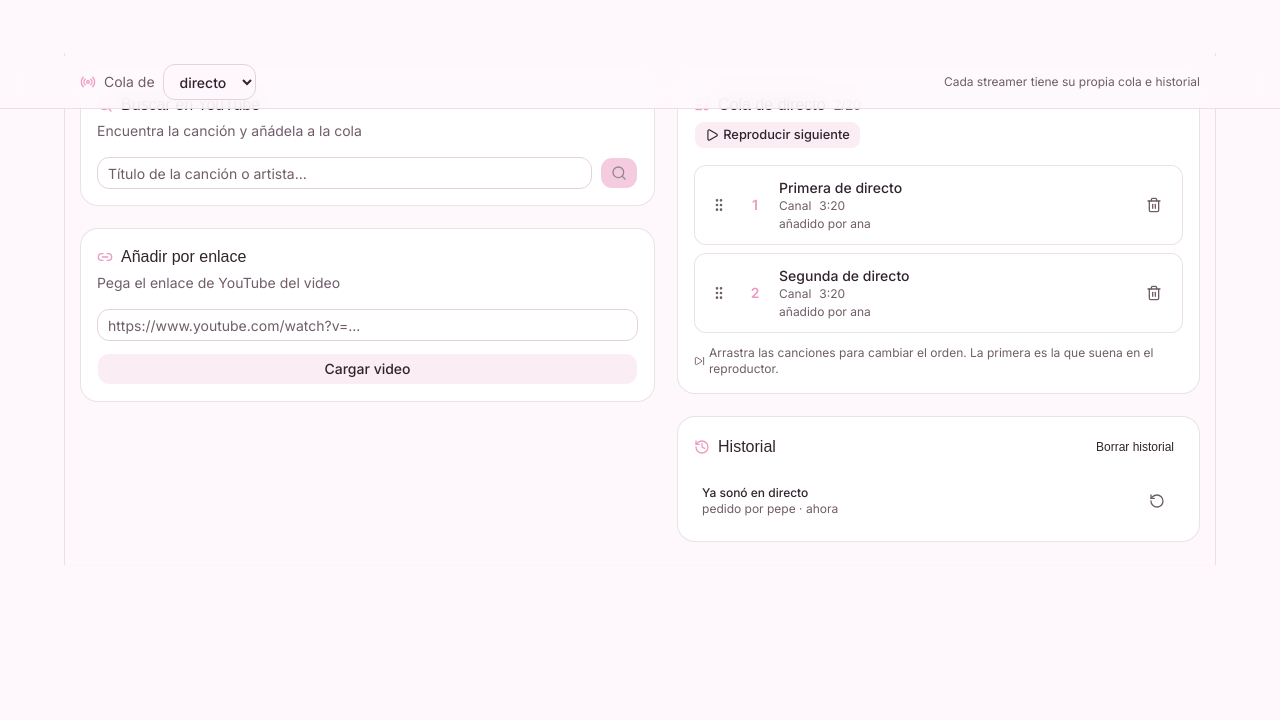
Test: panel de moderadores › quitar una canción la elimina de la cola
What coordinates should you click on to do the following:
click the button named "Eliminar" in the row of "Primera de directo"
I would click on:
 (1154, 205)
Its box is [1138,189,1170,221].
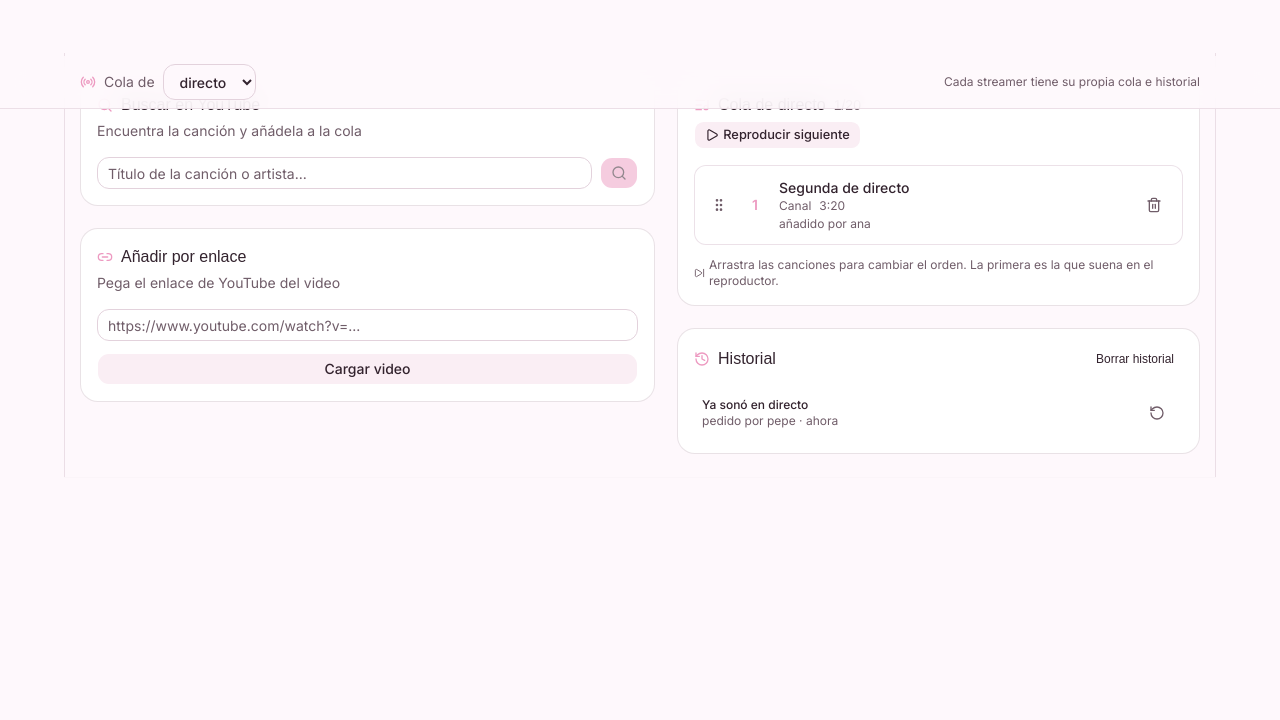
Expected: the text "Primera de directo" is gone
